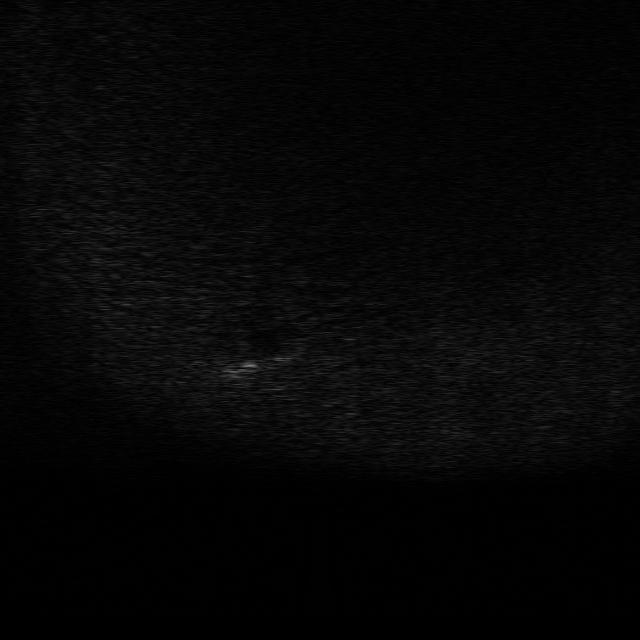plane: (214, 341, 298, 386)
